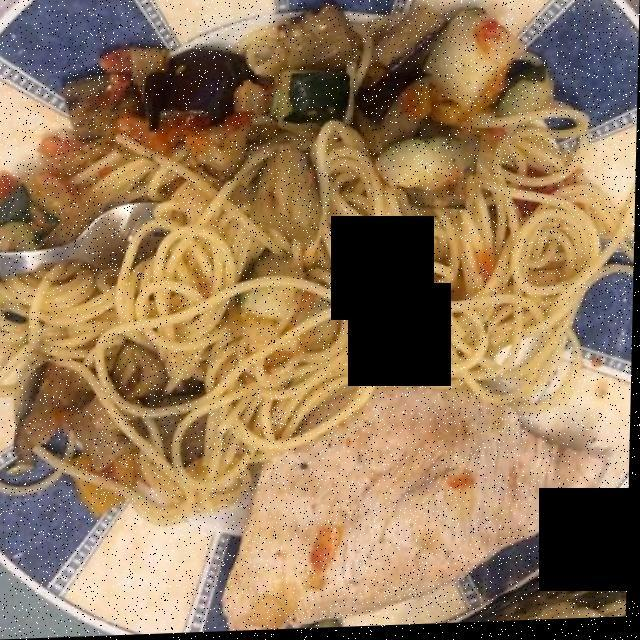pasta: (12, 82, 620, 522)
ratatouille: (5, 0, 556, 517)
